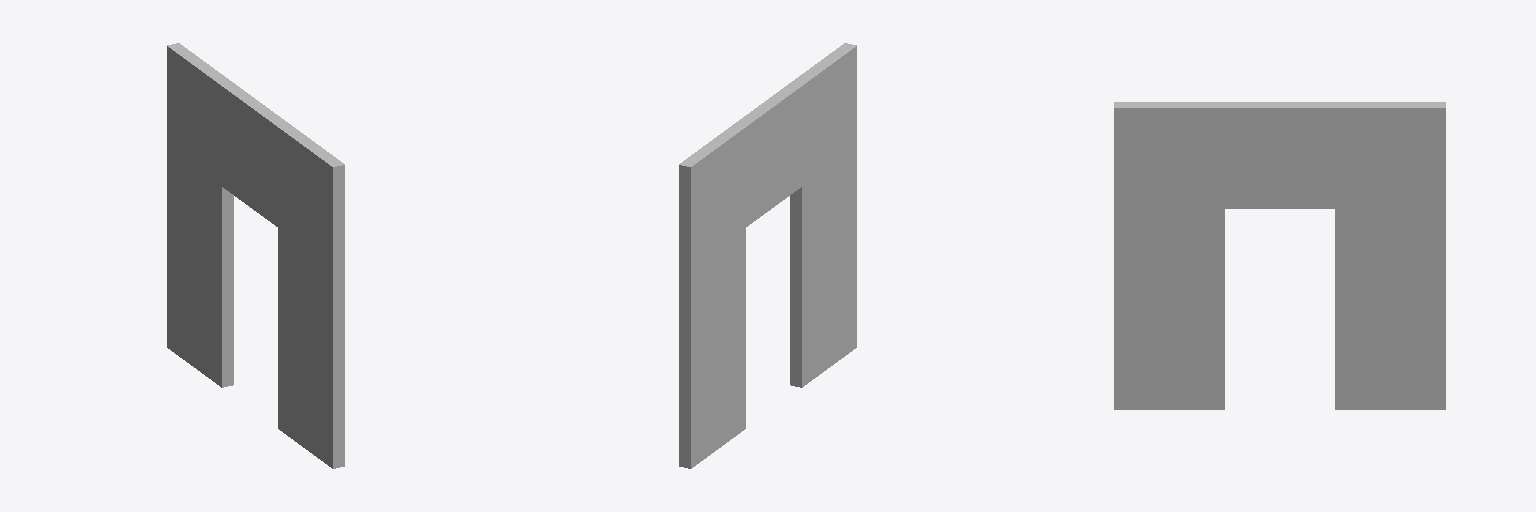
Rendered from door_frame.obj.
The picture shows the model from 3 angles: view 1: azimuth 30°, elevation 25°; view 2: azimuth 150°, elevation 25°; view 3: azimuth 270°, elevation 25°; orthographic projection.
Visible parts, largest first — view 1: Cube; view 2: Cube; view 3: Cube.
Boxes of the visible parts, x1=… form: Cube: x1=167, y1=43, x2=344, y2=468; Cube: x1=679, y1=43, x2=856, y2=468; Cube: x1=1114, y1=102, x2=1445, y2=409.
Size of the model in its own units: 0.0839 by 2 by 2.